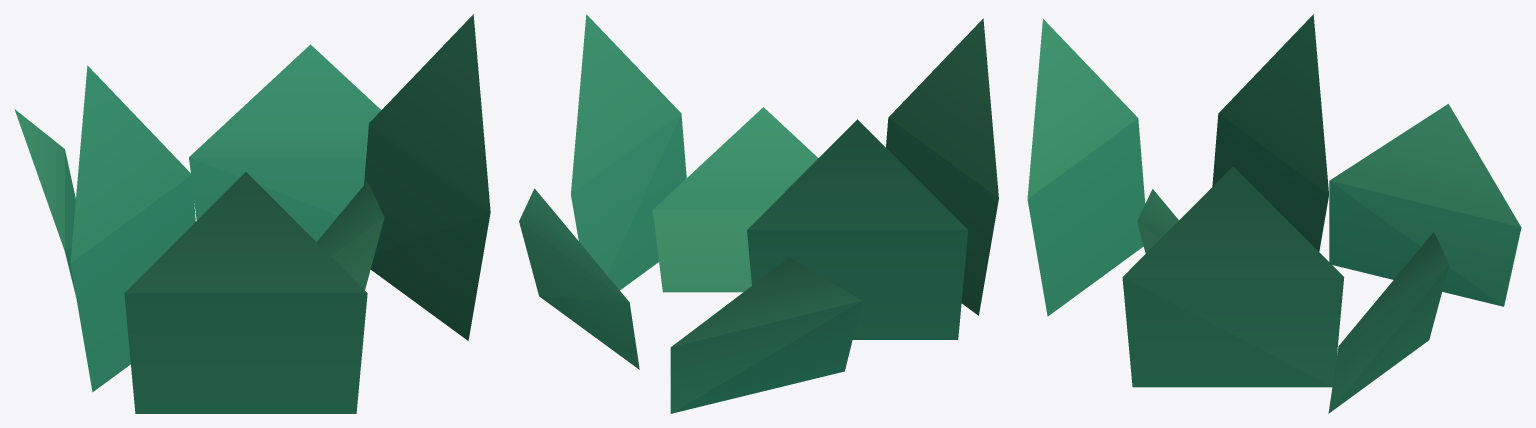
File: grass.glb
3 views of the same model, side by side, from view 1: azimuth 30°, elevation 25°; view 2: azimuth 150°, elevation 25°; view 3: azimuth 270°, elevation 25° (orthographic). The views are drawn at different scales.
Visible parts, largest first — view 1: c329c74, c37a177, c3ca579, c41ab7b, c2e9772, c47b17e; view 2: c41ab7b, c37a177, c329c74, c2e9772, c3ca579, c47b17e, c29926f; view 3: c329c74, c37a177, c41ab7b, c3ca579, c29926f, c2e9772.
Boxes of the visible parts, x1,y1,x2,y2 form: c329c74: (65,150,490,413); c37a177: (70,65,490,263); c3ca579: (189,14,490,211); c41ab7b: (14,109,384,293); c2e9772: (70,175,195,392); c47b17e: (331,218,384,289); c41ab7b: (653,18,998,347); c37a177: (519,114,967,302); c329c74: (539,114,998,413); c2e9772: (747,230,968,339); c3ca579: (519,14,681,301); c47b17e: (652,210,766,292); c29926f: (671,301,861,413); c329c74: (1027,118,1521,413); c37a177: (1123,14,1448,413); c41ab7b: (1027,19,1520,238); c3ca579: (1123,166,1448,345); c29926f: (1329,181,1503,306); c2e9772: (1212,114,1328,251).
Size of the model in its own units: 0.2345 by 0.1425 by 0.2573.
